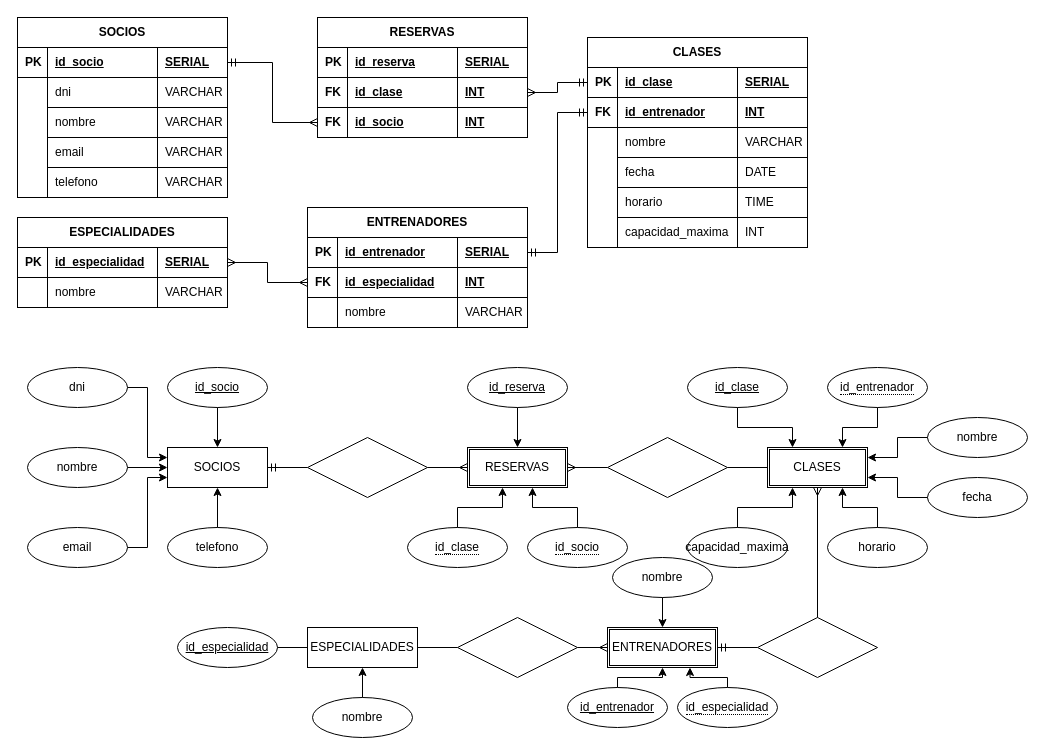
Some shapes in this 1045 by 755 pixel diagram are drawn without their labels. The centre of each missing label's shape, as x and y in pixels:
"Conocen" goes at point 517,647.
"Imparten" goes at point 817,647.
"Realizan" goes at point 367,467.
"Tienen" goes at point 667,467.
